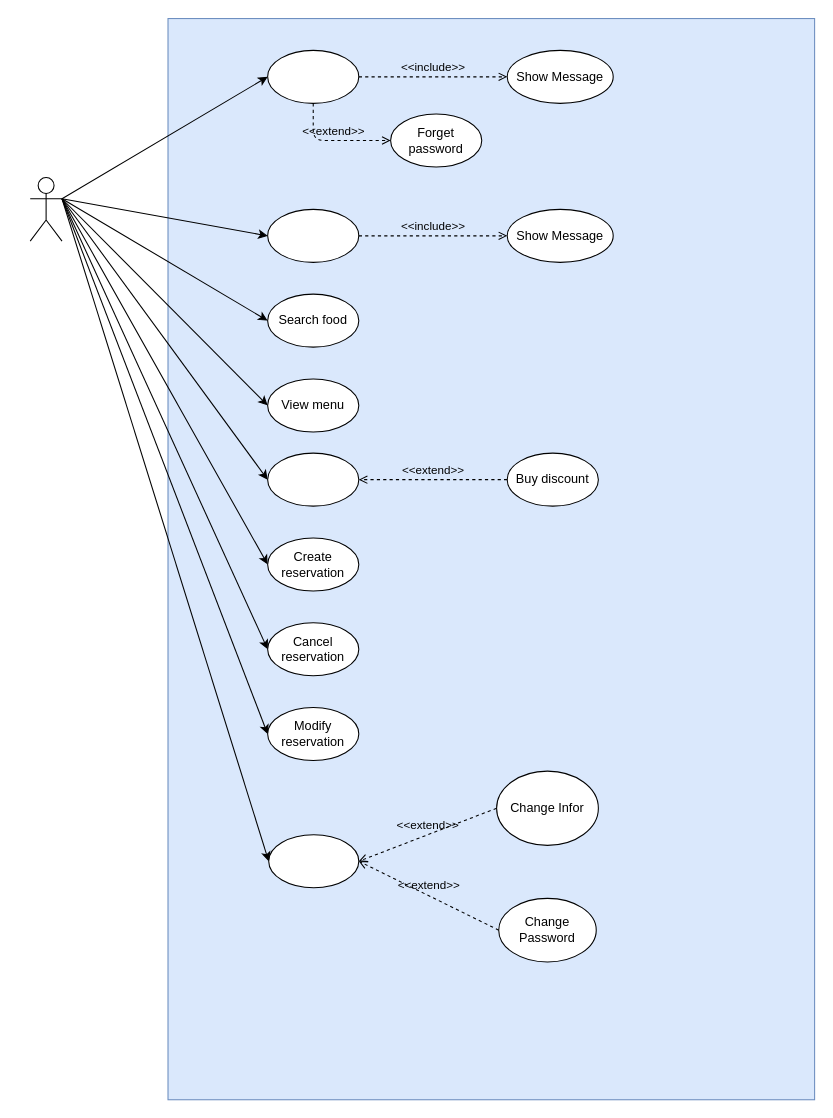
Some shapes in this 833 by 1118 pixel diagram are drawn without their labels. The shapes that lost their labels are listed below. From the top down, each one's box as (x1, y1, x2, y2) in pixels, then its label:
(267, 49, 359, 103): Sign In
(29, 176, 62, 241): Customer
(267, 208, 359, 262): Sign Up
(267, 452, 359, 506): View discount
(268, 834, 359, 888): Show Profile
